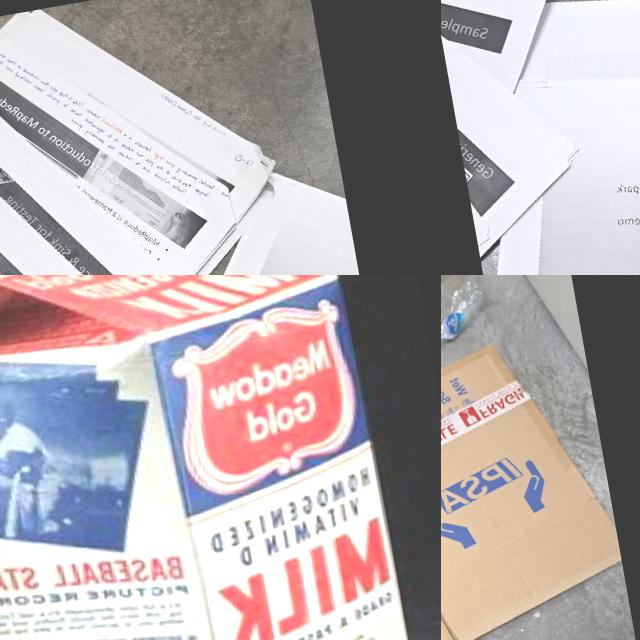caixinha: (0, 275, 422, 640)
garrafa plástica: (441, 279, 488, 345)
papel: (0, 0, 415, 275), (441, 0, 640, 275)
papelão: (441, 327, 639, 640)
